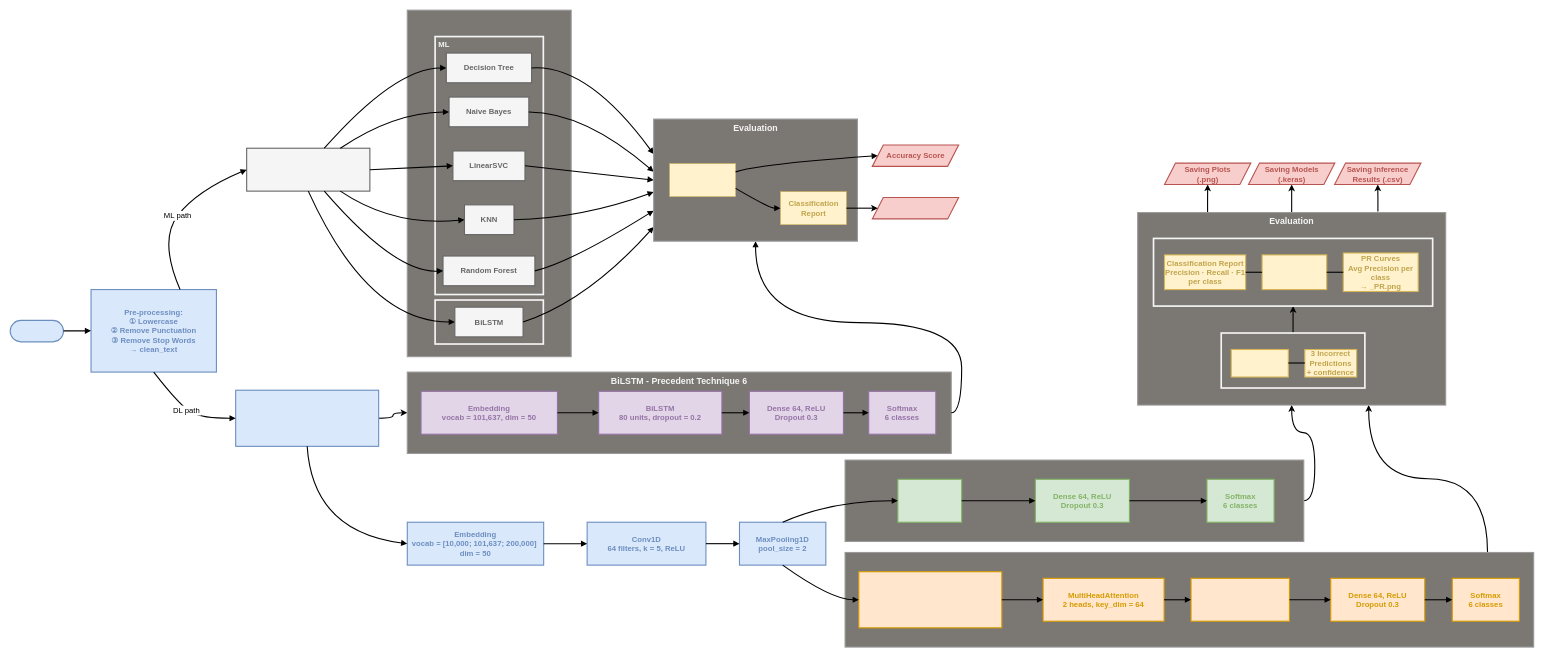
This 1543x657 diagram has some shape labels left out. The shapes that lost their labels are listed below. From the top down, each one's box as (x1, y1, x2, y2) in pixels, then its label:
(246, 147, 370, 191): TF-IDF max_features = 10,000
(406, 9, 571, 357): Baselines - Precedent Techniques 1 - 6
(669, 163, 736, 197): Get Predicitions on Test Set
(871, 197, 959, 219): F1 Score
(1152, 237, 1433, 307): Quantitative
(1261, 254, 1327, 290): ROC Curves AUC per class → _ROC.png
(9, 320, 64, 342): News Text
(434, 299, 544, 345): DL
(1230, 349, 1289, 377): 3 Correct Predictions + confidence
(1220, 332, 1365, 389): Qualitative
(235, 389, 379, 447): TextVectorization vocab = [10,000; 101,637; 200,000] seq_length = 500
(897, 479, 962, 522): LSTM 80 units
(844, 459, 1304, 542): CNN-LSTM - Replication Target
(858, 571, 1002, 628): LSTM 80 units, return_sequences = True
(844, 552, 1534, 647): CNN-LSTM + Attention - Extension
(1190, 578, 1290, 622): Dropout 0.3 GlobalAvgPool1D
